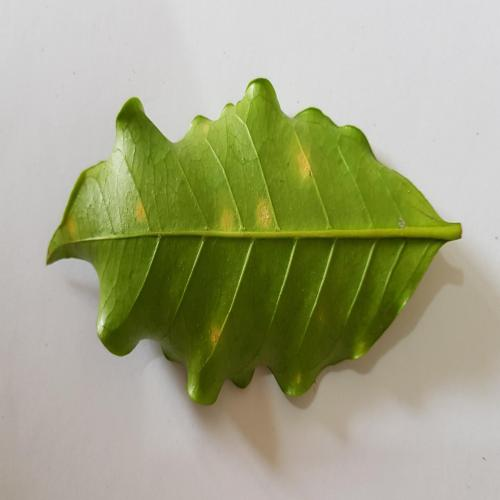phoma: (296, 147, 312, 178)
